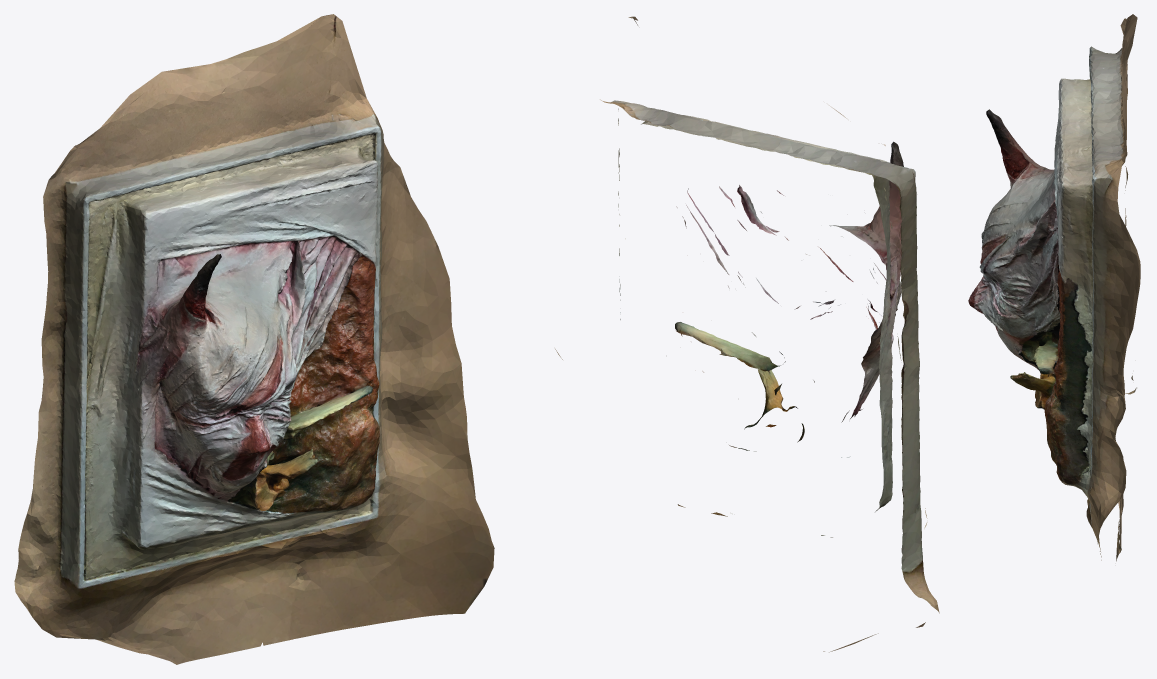
The model's file is the-dress.glb.
The picture shows the model from 3 angles, left to right: view 1: azimuth 30°, elevation 25°; view 2: azimuth 150°, elevation 25°; view 3: azimuth 270°, elevation 25°; orthographic projection. The views are drawn at different scales.
Size of the model in its own units: 1.76 by 2.32 by 0.6696.
Materials: 1 (1 with a texture image).
